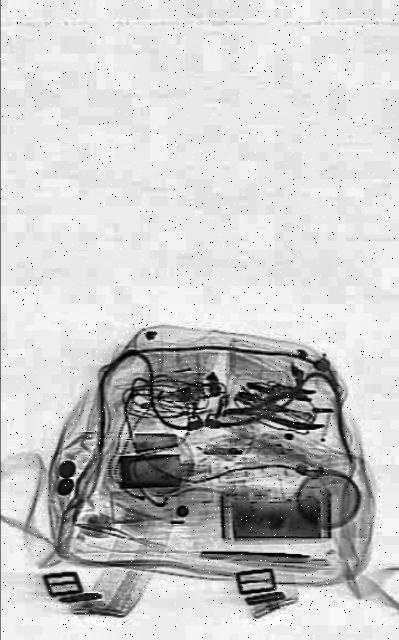Pliers: (227, 390, 325, 428)
